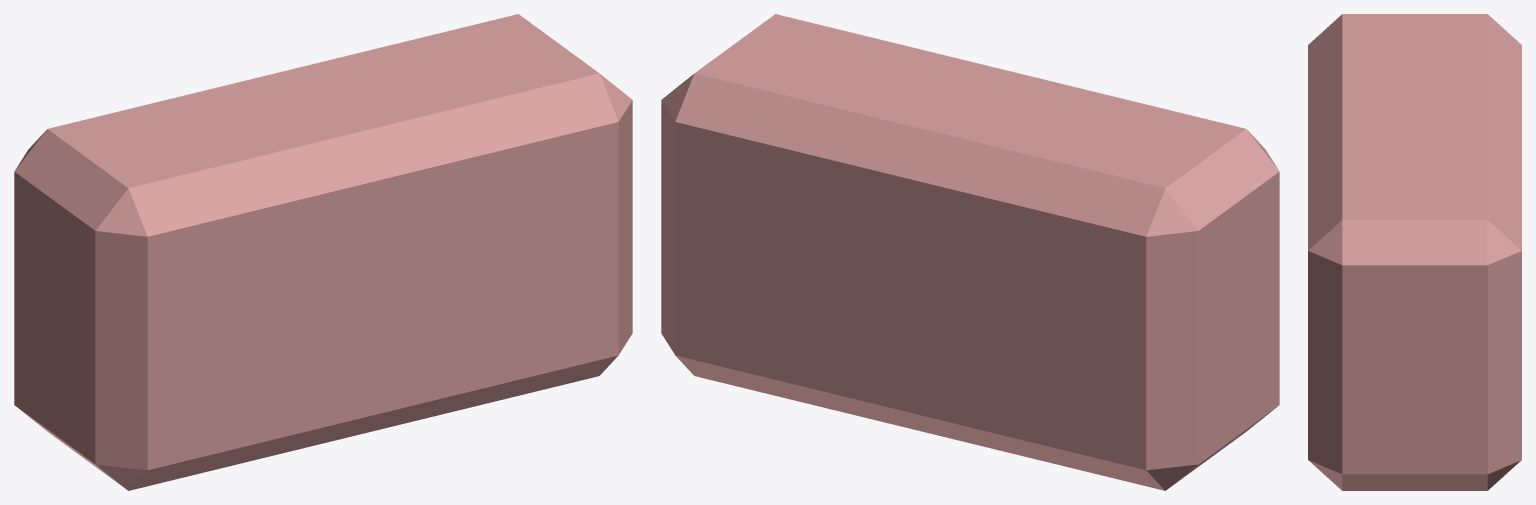
Rendered from orb4_gag_shard_rose.glb.
The picture shows the model from 3 angles, left to right: view 1: azimuth 30°, elevation 25°; view 2: azimuth 150°, elevation 25°; view 3: azimuth 270°, elevation 25°; orthographic projection. The views are drawn at different scales.
Visible parts, largest first — view 1: orb4_gag_shard_rose__orb3-rose-sugar; view 2: orb4_gag_shard_rose__orb3-rose-sugar; view 3: orb4_gag_shard_rose__orb3-rose-sugar.
Boxes of the visible parts, x1,y1,x2,y2 form: orb4_gag_shard_rose__orb3-rose-sugar: [14, 14, 632, 490]; orb4_gag_shard_rose__orb3-rose-sugar: [661, 14, 1279, 490]; orb4_gag_shard_rose__orb3-rose-sugar: [1308, 14, 1521, 490].
Bounding box in the file's own units: 1.3 × 0.7 × 0.5.
